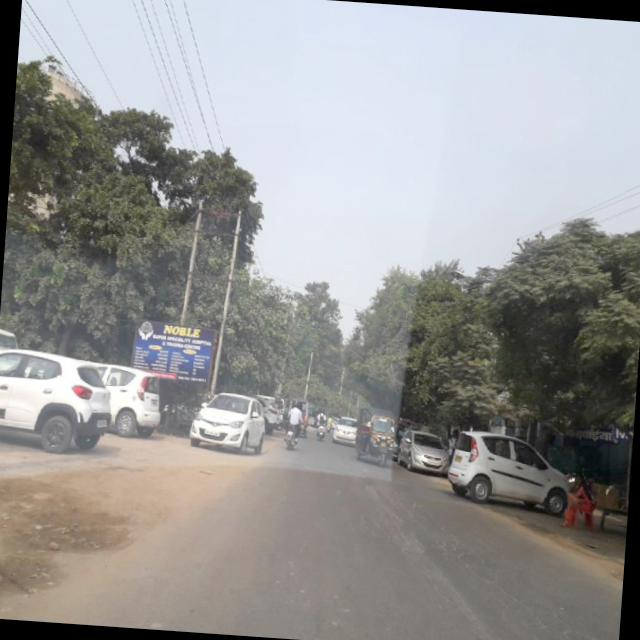crack: (456, 554, 576, 638), (360, 480, 457, 559)
